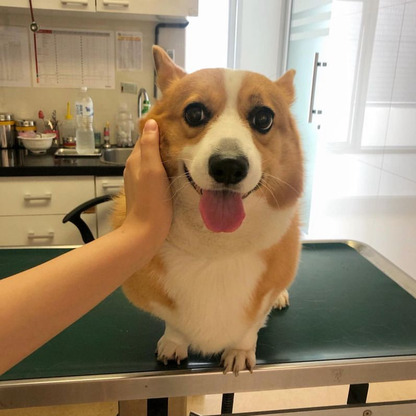Corgi: (139, 41, 317, 381)
